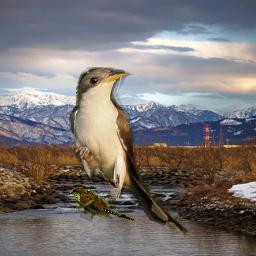Cuckoo: (69, 67, 190, 242), (68, 186, 137, 222)
